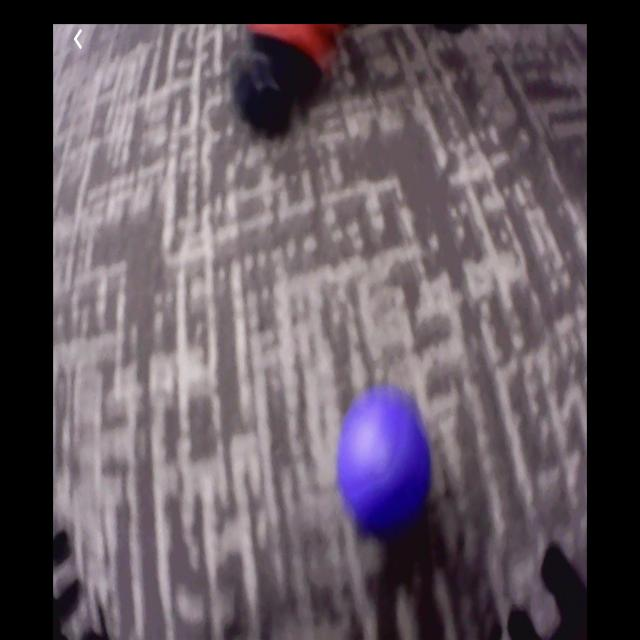ball: (341, 398, 433, 525)
